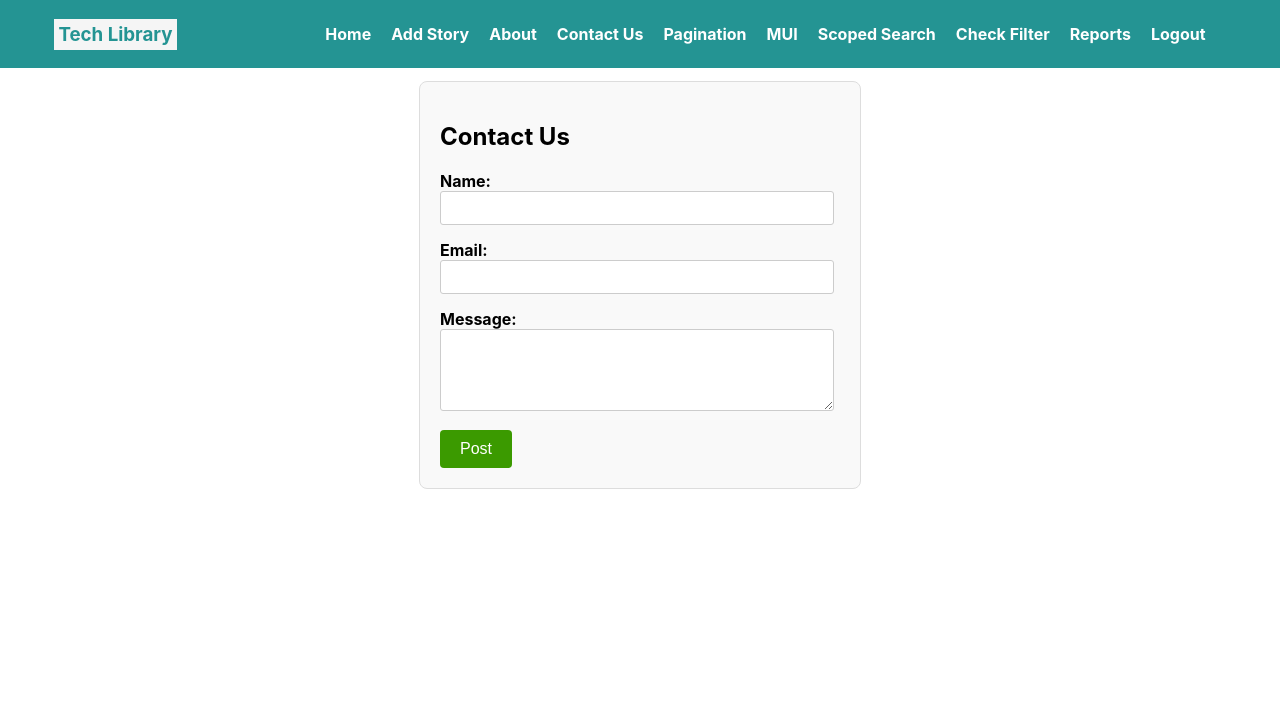
Test: ContactUs Component › shows error messages on invalid input
The width and height of the screenshot is (1280, 720).
Click the button "Post" at [476, 449], box [440,430,512,468]
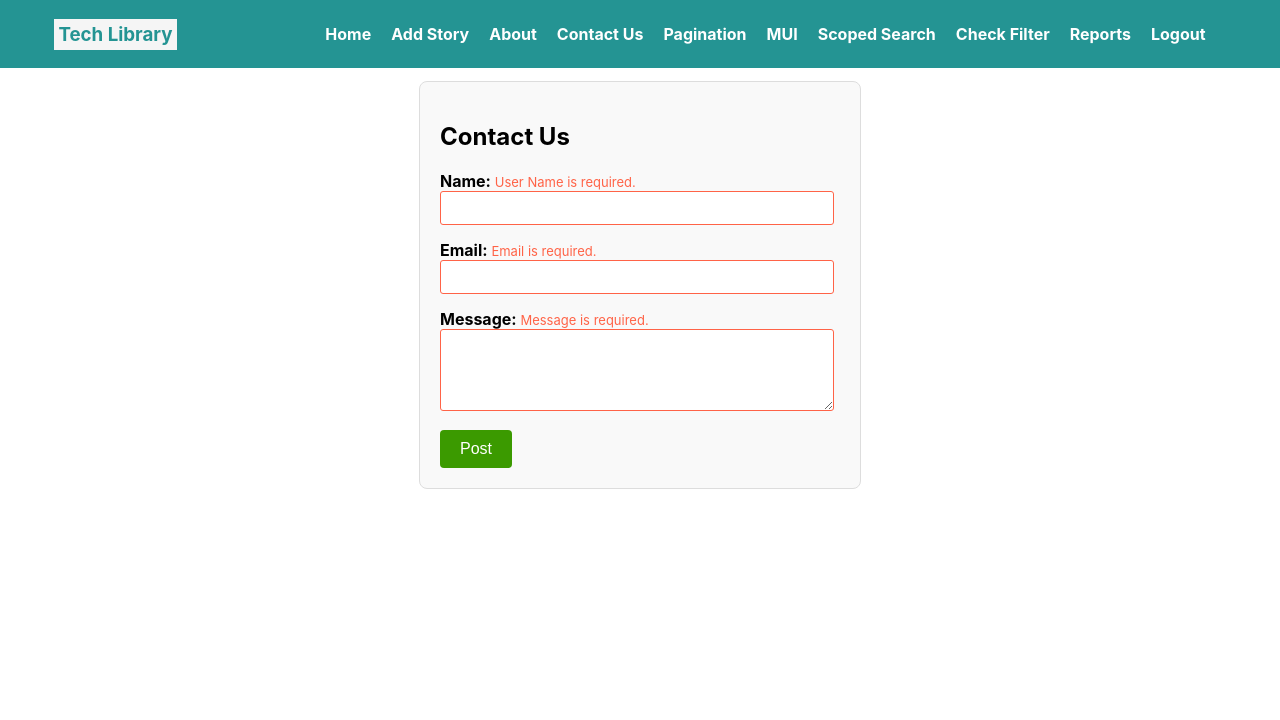
expect the text "User Name is required." is shown: met, box [495,174,636,190]
expect the text "Email is required." is shown: met, box [491,243,596,259]
expect the text "Message is required." is shown: met, box [520,312,649,328]
